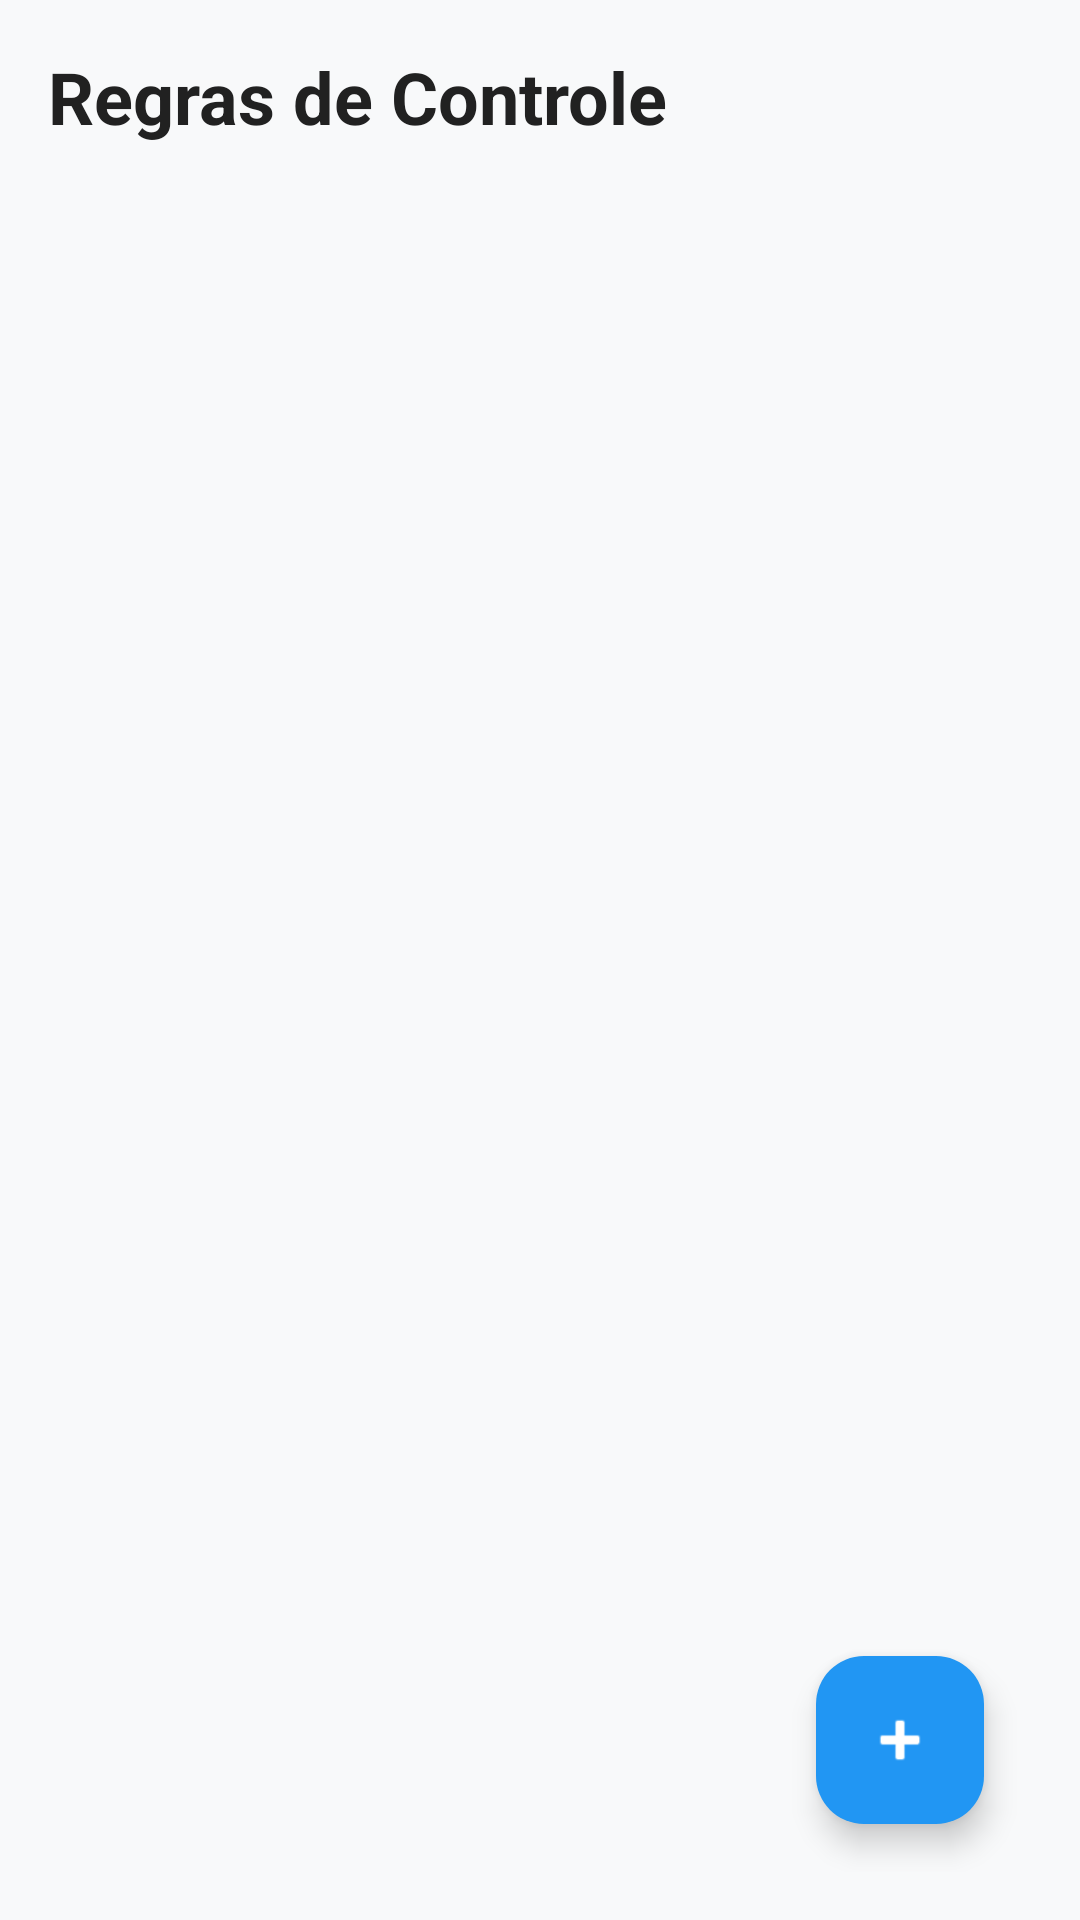

Point at icon controls on the screen. Image size 1080 x 1920, points as (x,y).
Adicionar Regra: (900,1740)
